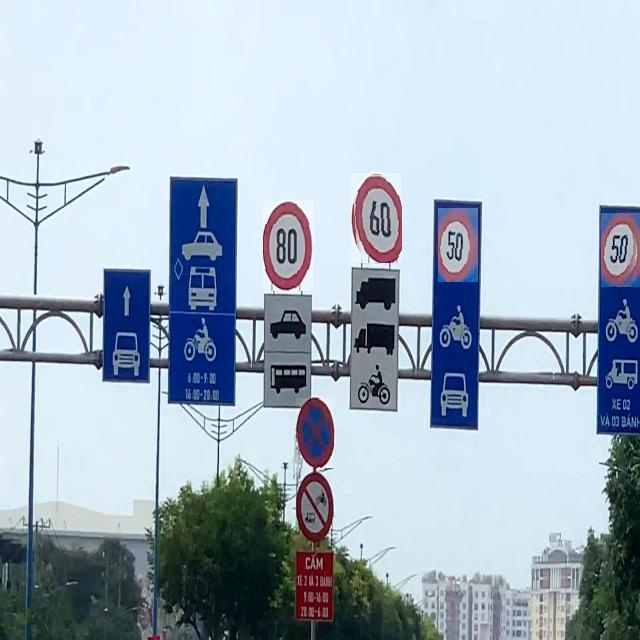bien_cam: (351, 173, 402, 263), (263, 201, 314, 291), (438, 208, 478, 282), (601, 213, 640, 287), (296, 398, 334, 468)
